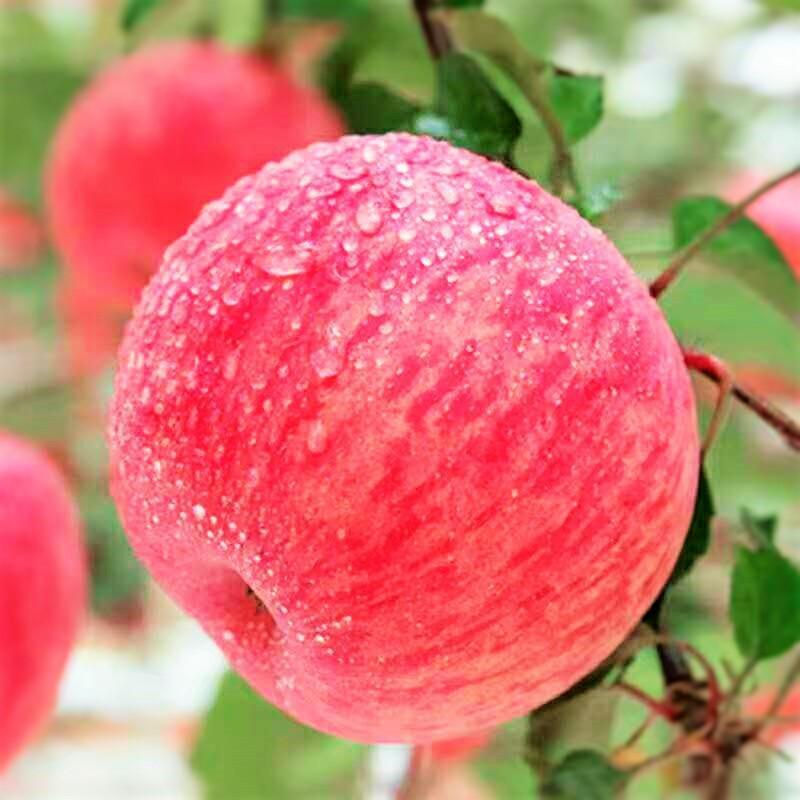apple: (98, 128, 702, 744)
